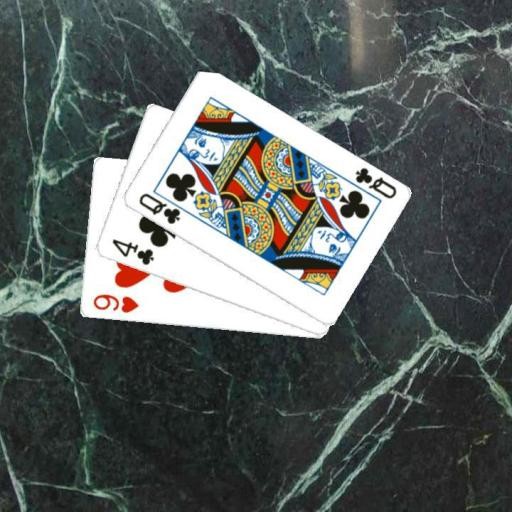4C: (108, 236, 155, 267)
9H: (90, 292, 140, 315)
QC: (352, 164, 399, 201), (135, 190, 182, 226)
